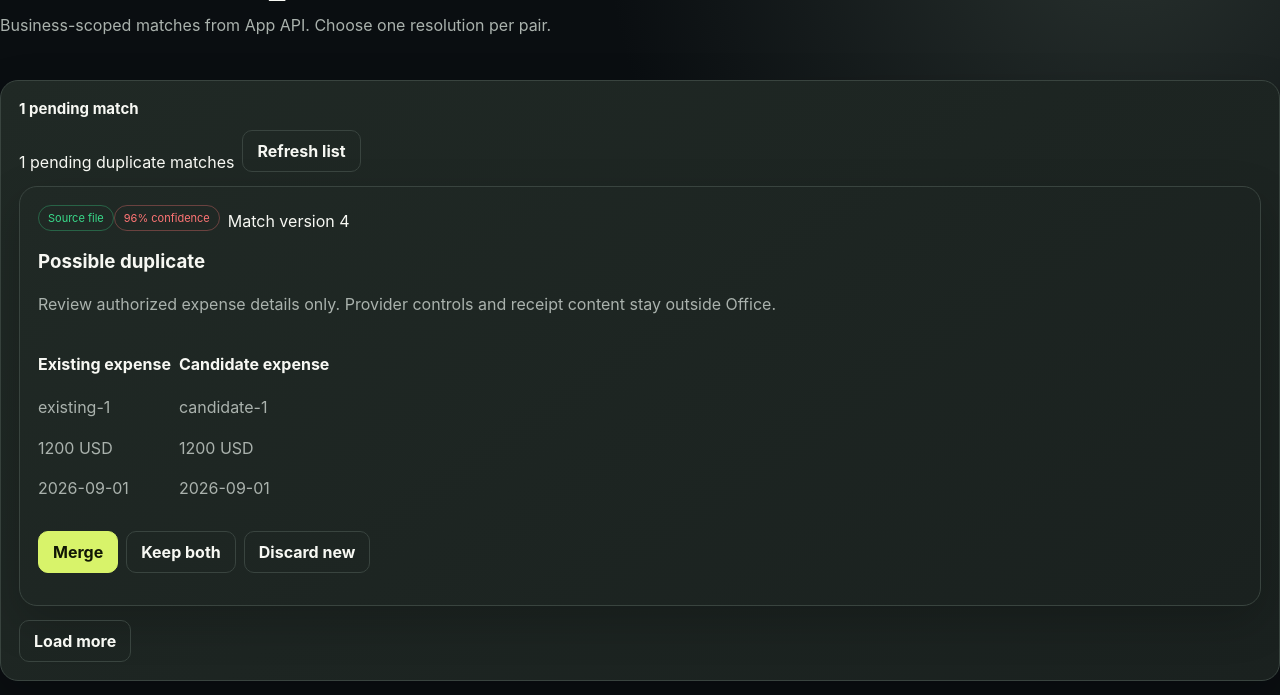
Test: rendered Office duplicate review › shows pagination failure without dropping existing matches
(page scrolled)
What coordinates should you click on to do the following:
click the button "Load more"
I would click on:
 (75, 641)
Its box is [19, 620, 131, 662].
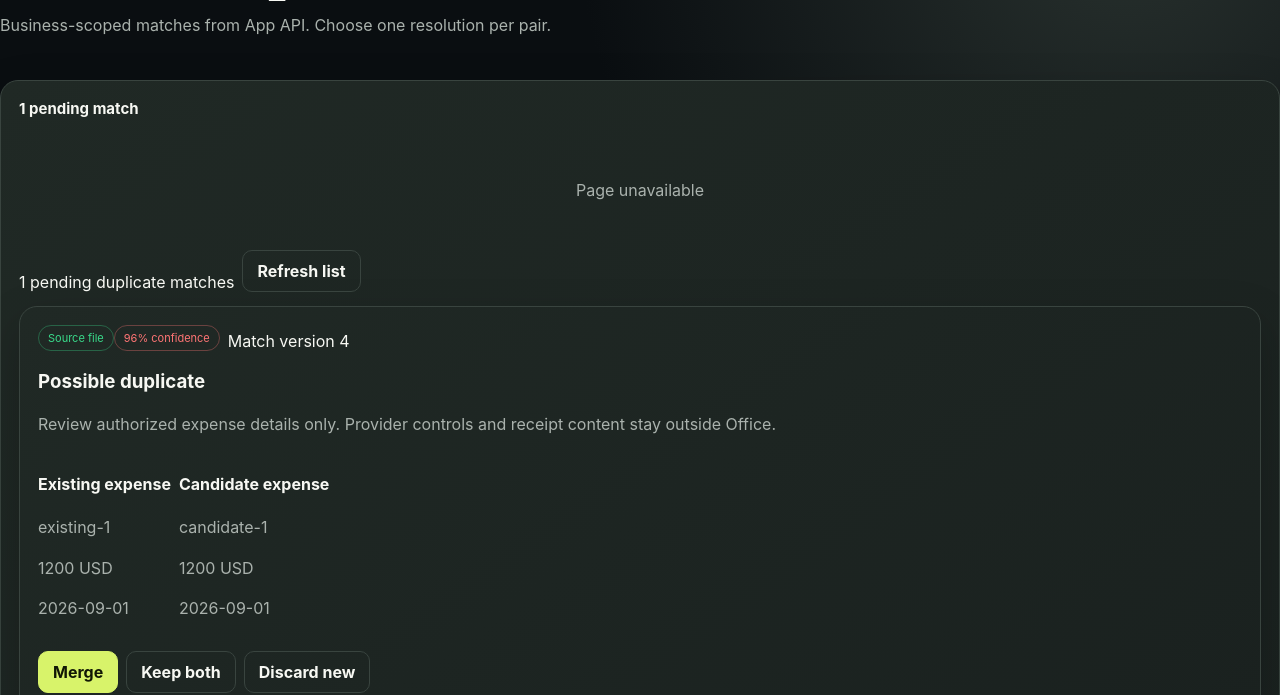
Expected: the text "existing-1" is shown, [38, 517, 110, 537]
Result: the message "Page unavailable" is shown at [576, 180, 704, 200]
